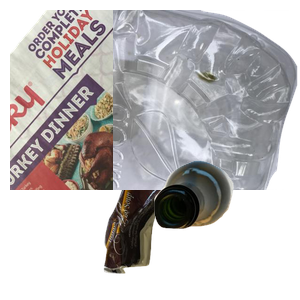glass: (151, 158, 300, 300)
paper: (10, 10, 247, 190)
plastic: (113, 10, 300, 190)
trash: (101, 157, 270, 300)
